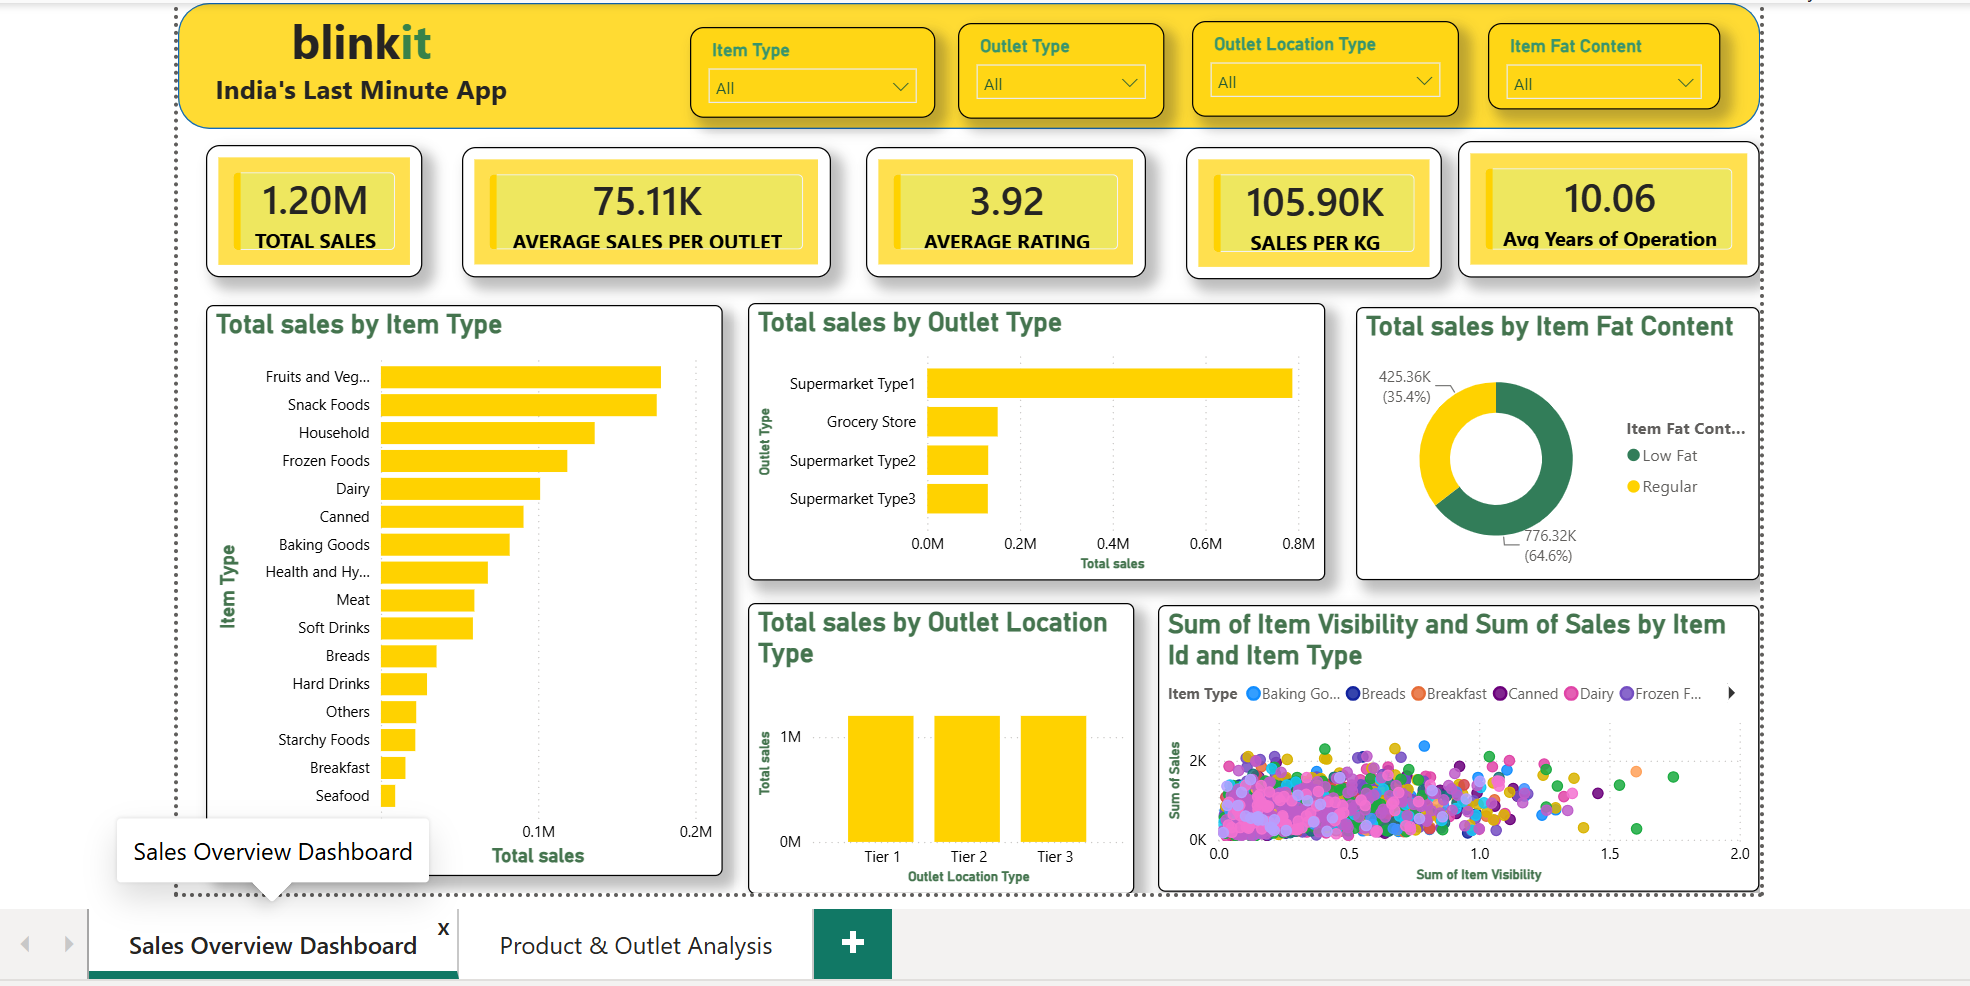

What the dashboard file says about the page in this screenshot:
{"tool":"powerbi","page":{"name":"Sales Overview Dashboard","canvas":[1280,720],"ordinal":0},"visuals":[{"type":"shape","box":[0,0,1280,101.8],"z":0},{"type":"textbox","box":[0,0,296.7,103.6],"z":1000},{"type":"cardVisual","title":"Total sales","fields":{"Data":["BlinkIT Grocery Data.Total sales"]},"box":[22.7,115.1,175.1,107],"z":2000},{"type":"cardVisual","fields":{"Data":["BlinkIT Grocery Data.Avg sales per outlet"]},"box":[230,115.9,298.5,105.3],"z":3000},{"type":"cardVisual","fields":{"Data":["BlinkIT Grocery Data.Avg Rating"]},"box":[556.6,115.9,226.5,105.3],"z":4000},{"type":"cardVisual","fields":{"Data":["Sum(BlinkIT Grocery Data.Sales per Kg)"]},"box":[814.7,115.9,207.2,107.1],"z":5000},{"type":"clusteredBarChart","fields":{"Y":["BlinkIT Grocery Data.Total sales"],"Category":["Items.Item Type"]},"box":[22.8,244.1,417.9,461.8],"z":6000},{"type":"donutChart","fields":{"Category":["Items Content.Item Fat Content"],"Y":["BlinkIT Grocery Data.Total sales"]},"box":[953.4,245.8,326.6,221.2],"z":7000},{"type":"clusteredColumnChart","fields":{"Category":["Outlet Location.Outlet Location Type"],"Y":["BlinkIT Grocery Data.Total sales"]},"box":[461.8,484.6,312.5,235.3],"z":8000},{"type":"clusteredBarChart","fields":{"Category":["Outlet Info.Outlet Type"],"Y":["BlinkIT Grocery Data.Total sales"]},"box":[461.8,242.3,467.1,224.7],"z":9000},{"type":"slicer","fields":{"Values":["Items.Item Type"]},"box":[414.4,19.3,198.4,73.7],"z":10000},{"type":"slicer","fields":{"Values":["Outlet Info.Outlet Type"]},"box":[630.3,15.8,166.8,77.3],"z":11000},{"type":"slicer","fields":{"Values":["Outlet Location.Outlet Location Type"]},"box":[820,14,216,77.3],"z":12000},{"type":"slicer","fields":{"Values":["Items Content.Item Fat Content"]},"box":[1060.5,15.8,187.9,70.2],"z":13000},{"type":"cardVisual","fields":{"Data":["Outlet Info.Avg Years of Operation"]},"box":[1035.9,112.4,244.1,110.6],"z":14000},{"type":"scatterChart","fields":{"Y":["Sum(BlinkIT Grocery Data.Sales)"],"Category":["BlinkIT Grocery Data.Item Id"],"X":["Sum(BlinkIT Grocery Data.Item Visibility)"],"Series":["Items.Item Type"]},"box":[793,486.5,486.5,231.9],"z":15000}]}

Visuals, with their boxes on the page's 1280x720 design canvas (x1, y1, x2, y2). These are canvas units, not pixel positions in the 1970x986 screenshot, which may show the page scaled, cropped or inside an application window:
shape: {"left": 0, "top": 0, "right": 1280, "bottom": 102}
textbox: {"left": 0, "top": 0, "right": 297, "bottom": 104}
"Total sales" cardVisual: {"left": 23, "top": 115, "right": 198, "bottom": 222}
cardVisual - BlinkIT Grocery Data.Avg sales per outlet: {"left": 230, "top": 116, "right": 528, "bottom": 221}
cardVisual - BlinkIT Grocery Data.Avg Rating: {"left": 557, "top": 116, "right": 783, "bottom": 221}
cardVisual - Sum(BlinkIT Grocery Data.Sales per Kg): {"left": 815, "top": 116, "right": 1022, "bottom": 223}
clusteredBarChart - BlinkIT Grocery Data.Total sales x Items.Item Type: {"left": 23, "top": 244, "right": 441, "bottom": 706}
donutChart - Items Content.Item Fat Content x BlinkIT Grocery Data.Total sales: {"left": 953, "top": 246, "right": 1280, "bottom": 467}
clusteredColumnChart - Outlet Location.Outlet Location Type x BlinkIT Grocery Data.Total sales: {"left": 462, "top": 485, "right": 774, "bottom": 720}
clusteredBarChart - Outlet Info.Outlet Type x BlinkIT Grocery Data.Total sales: {"left": 462, "top": 242, "right": 929, "bottom": 467}
slicer - Items.Item Type: {"left": 414, "top": 19, "right": 613, "bottom": 93}
slicer - Outlet Info.Outlet Type: {"left": 630, "top": 16, "right": 797, "bottom": 93}
slicer - Outlet Location.Outlet Location Type: {"left": 820, "top": 14, "right": 1036, "bottom": 91}
slicer - Items Content.Item Fat Content: {"left": 1060, "top": 16, "right": 1248, "bottom": 86}
cardVisual - Outlet Info.Avg Years of Operation: {"left": 1036, "top": 112, "right": 1280, "bottom": 223}
scatterChart - Sum(BlinkIT Grocery Data.Sales) x BlinkIT Grocery Data.Item Id: {"left": 793, "top": 486, "right": 1280, "bottom": 718}
